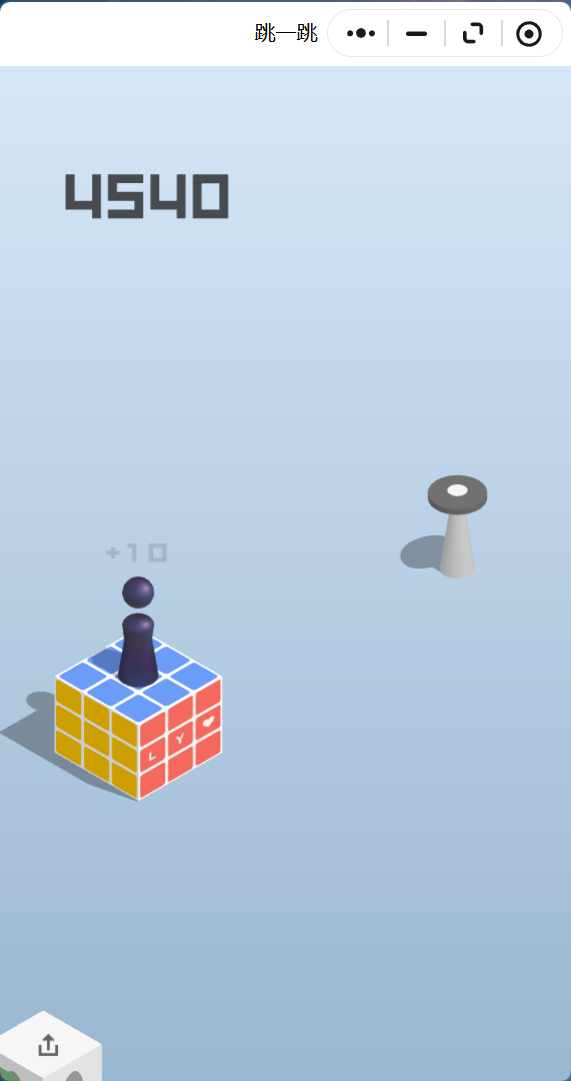piece: (122, 577, 153, 684)
target: (427, 476, 487, 510)
